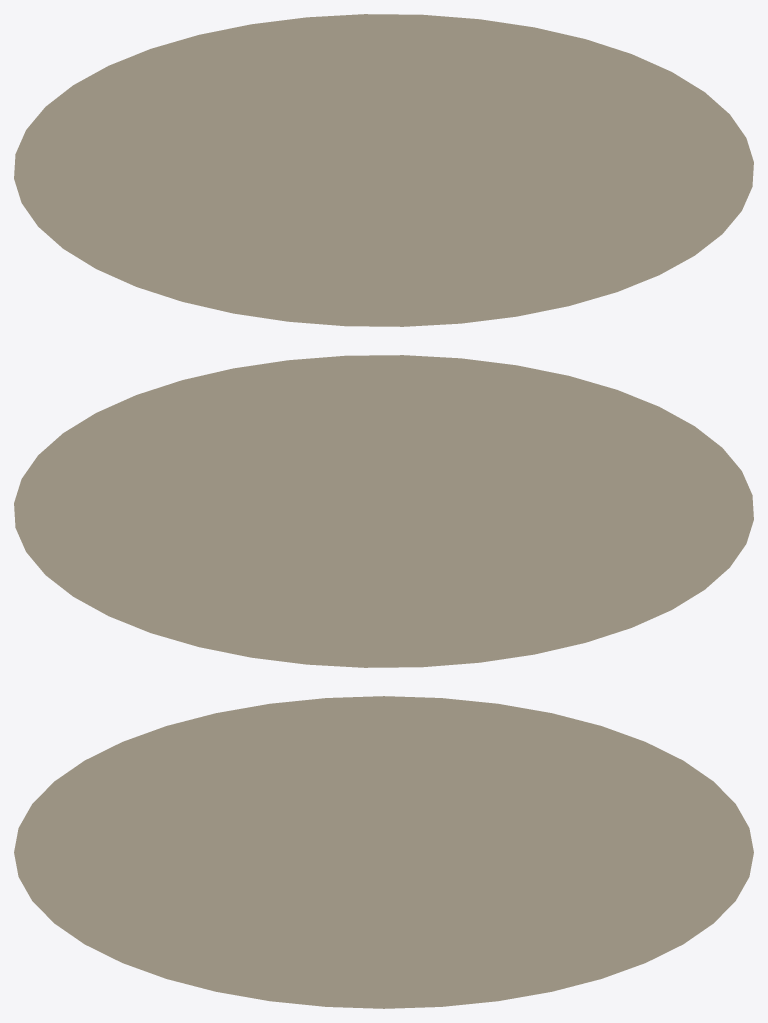
File: hall-interior.glb
3 renders of one model, top to bottom at view 1: azimuth 30°, elevation 25°; view 2: azimuth 150°, elevation 25°; view 3: azimuth 270°, elevation 25°, orthographic.
Parts seen in each view (by area): view 1: incense ash bed; view 2: incense ash bed; view 3: incense ash bed.
Part boxes in pixels (x1=…): incense ash bed: x1=14, y1=14, x2=753, y2=326; incense ash bed: x1=14, y1=355, x2=753, y2=667; incense ash bed: x1=14, y1=696, x2=753, y2=1008.
Bounding box in the file's own units: 0.256 × 0 × 0.256.
